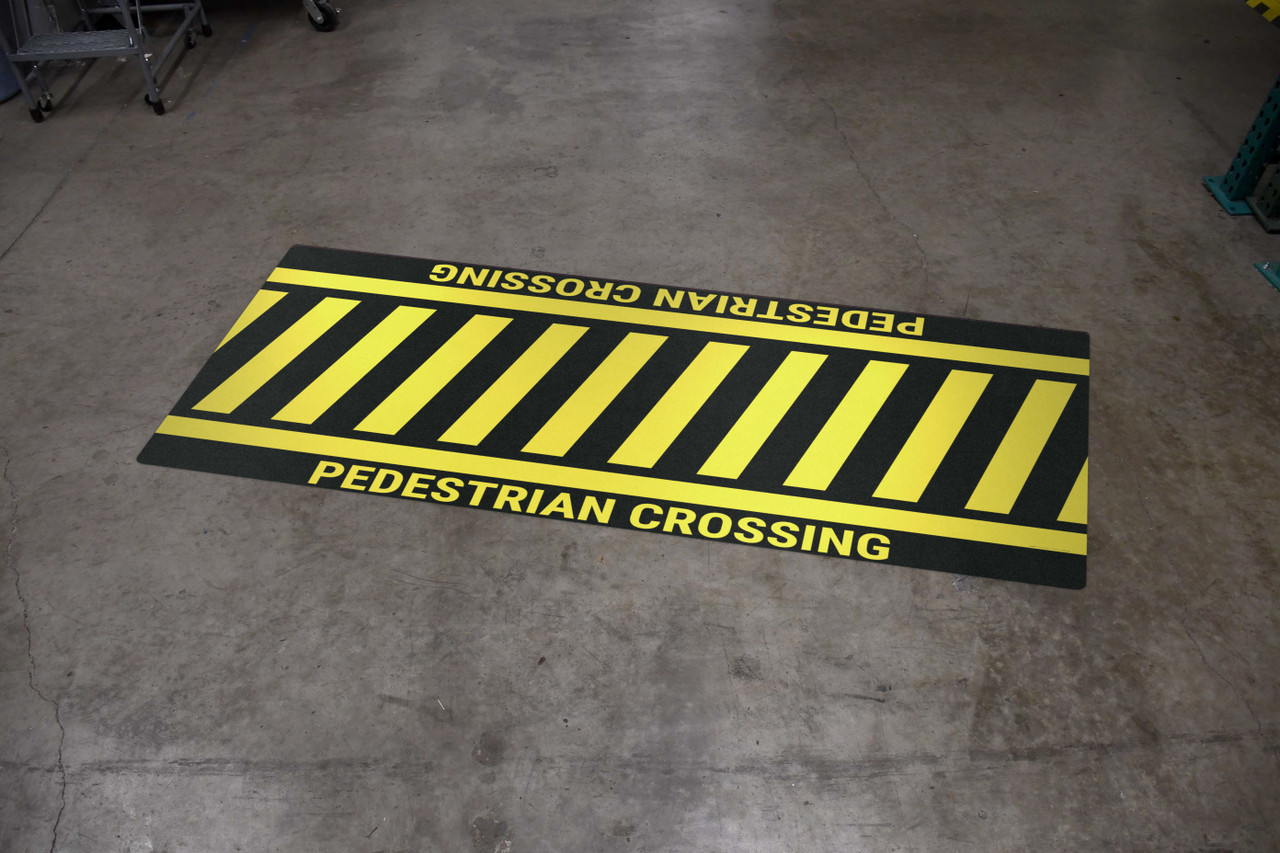Crosswalk: (150, 220, 1164, 625)
